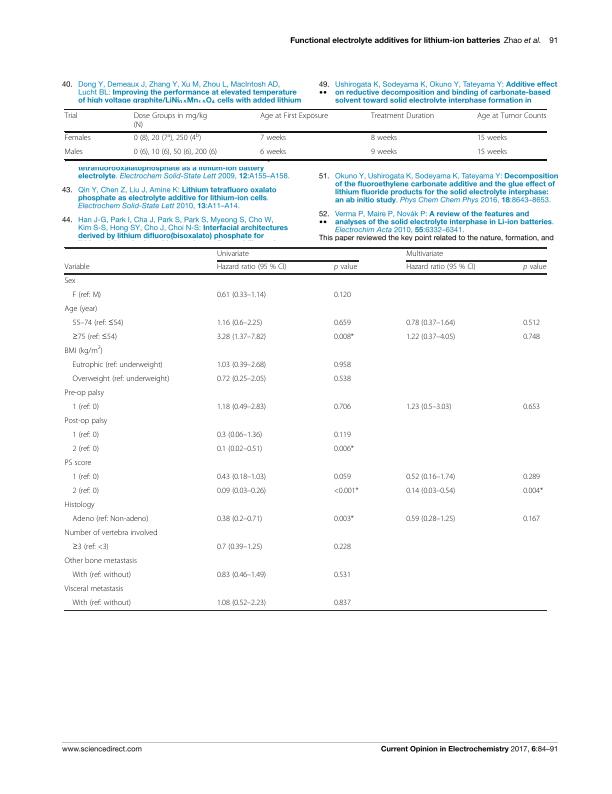borderless: (63, 246, 547, 610), (63, 108, 546, 159)
cell: (133, 112, 208, 130), (71, 374, 170, 384), (64, 528, 158, 538), (71, 360, 164, 370), (133, 148, 218, 158), (133, 132, 202, 144), (71, 514, 149, 524), (64, 556, 138, 566), (405, 263, 477, 273), (216, 263, 287, 273), (476, 112, 547, 121), (259, 112, 329, 121), (71, 570, 132, 580), (71, 598, 132, 608), (64, 584, 124, 594), (370, 112, 435, 121), (71, 318, 124, 328), (216, 290, 267, 300), (405, 318, 456, 328), (216, 332, 267, 342), (405, 332, 456, 342), (216, 360, 267, 370), (216, 374, 267, 384), (216, 402, 267, 412), (216, 472, 267, 482), (405, 472, 456, 482), (216, 486, 267, 496), (405, 486, 456, 496), (405, 514, 456, 524), (216, 570, 267, 580), (216, 598, 267, 608), (216, 318, 263, 328), (71, 332, 118, 342), (405, 402, 452, 412), (216, 430, 263, 440), (216, 444, 263, 454), (216, 514, 263, 524), (216, 542, 263, 552), (64, 345, 104, 356), (64, 416, 108, 426), (64, 388, 105, 398), (71, 542, 110, 552), (405, 250, 444, 259), (64, 304, 98, 314), (476, 134, 508, 144), (476, 148, 508, 158), (71, 290, 102, 300), (64, 500, 95, 510), (216, 250, 250, 259), (71, 402, 100, 412), (71, 430, 100, 440), (71, 444, 100, 454), (71, 472, 100, 482), (71, 486, 100, 496), (259, 134, 287, 144), (370, 134, 398, 144), (259, 148, 287, 158), (370, 148, 398, 158), (64, 458, 92, 468), (64, 134, 91, 144), (333, 486, 360, 496), (64, 263, 90, 273), (333, 263, 358, 273), (522, 263, 547, 273), (333, 332, 355, 342), (333, 444, 355, 454), (522, 486, 544, 496), (333, 514, 355, 524), (63, 148, 84, 158), (333, 290, 352, 300), (333, 318, 352, 328), (522, 318, 541, 328), (522, 332, 541, 342), (333, 360, 352, 370), (333, 374, 352, 384), (333, 402, 352, 412), (522, 402, 541, 412), (333, 430, 352, 440), (333, 472, 352, 482), (522, 472, 541, 482), (522, 514, 541, 524), (333, 542, 352, 552), (333, 570, 352, 580), (333, 598, 352, 608), (64, 112, 78, 121), (64, 276, 76, 286)
